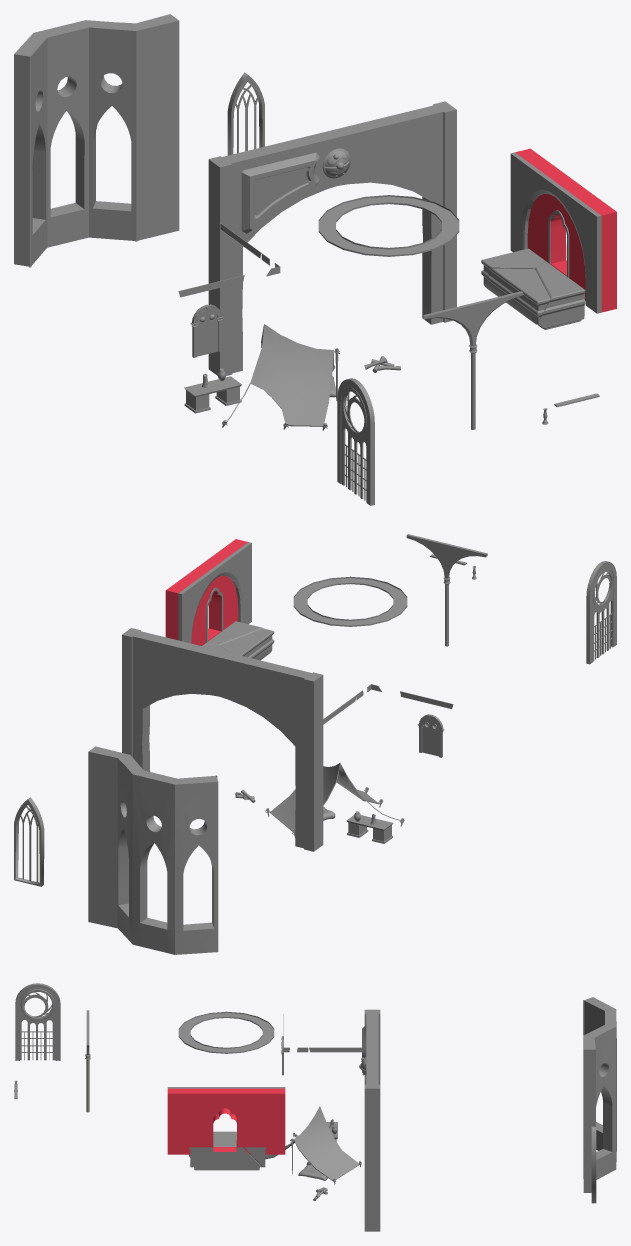
Rendered from modules_LO.FBX.
3 views of the same model, one above another, from view 1: azimuth 30°, elevation 25°; view 2: azimuth 150°, elevation 25°; view 3: azimuth 270°, elevation 25° (orthographic). The views are drawn at different scales.
Parts seen in each view (by area): view 1: wall_3window_LO, Archway_A_LO, doorway_Large_LO, tent_LO, terrace_LO, window_Large_LO, Archway_B_LO, roof_hole_LO, wall_TOP_A_LO, window_medium_LO, Door_medium_LO, small table_LO (+1 smaller); view 2: wall_3window_LO, Archway_A_LO, doorway_Large_LO, window_Large_LO, roof_hole_LO, terrace_LO, tent_LO, window_medium_LO, wall_TOP_A_LO, Door_medium_LO, small table_LO; view 3: doorway_Large_LO, wall_3window_LO, Archway_A_LO, window_Large_LO, tent_LO, terrace_LO, roof_hole_LO, window_medium_LO, wall_border_B_LO, wall_TOP_A_LO.
Boxes of the visible parts, x1=… form: wall_3window_LO: x1=14, y1=14, x2=179, y2=267; Archway_A_LO: x1=208, y1=101, x2=456, y2=375; doorway_Large_LO: x1=510, y1=148, x2=616, y2=313; tent_LO: x1=222, y1=324, x2=339, y2=430; terrace_LO: x1=481, y1=248, x2=585, y2=329; window_Large_LO: x1=337, y1=378, x2=374, y2=505; Archway_B_LO: x1=241, y1=152, x2=319, y2=233; roof_hole_LO: x1=318, y1=195, x2=459, y2=256; wall_TOP_A_LO: x1=423, y1=291, x2=523, y2=429; window_medium_LO: x1=227, y1=72, x2=264, y2=155; Door_medium_LO: x1=190, y1=304, x2=223, y2=357; small table_LO: x1=184, y1=376, x2=241, y2=413; wall_3window_LO: x1=88, y1=746, x2=218, y2=954; Archway_A_LO: x1=122, y1=628, x2=323, y2=851; doorway_Large_LO: x1=165, y1=539, x2=251, y2=645; window_Large_LO: x1=586, y1=561, x2=616, y2=664; roof_hole_LO: x1=293, y1=576, x2=407, y2=626; terrace_LO: x1=202, y1=621, x2=274, y2=660; tent_LO: x1=265, y1=763, x2=404, y2=837; window_medium_LO: x1=14, y1=797, x2=44, y2=886; wall_TOP_A_LO: x1=406, y1=534, x2=487, y2=646; Door_medium_LO: x1=417, y1=714, x2=444, y2=757; small table_LO: x1=346, y1=815, x2=393, y2=843; doorway_Large_LO: x1=167, y1=1087, x2=285, y2=1154; wall_3window_LO: x1=583, y1=997, x2=616, y2=1192; Archway_A_LO: x1=364, y1=1009, x2=380, y2=1231; window_Large_LO: x1=15, y1=983, x2=60, y2=1060; tent_LO: x1=265, y1=1106, x2=361, y2=1184; terrace_LO: x1=189, y1=1131, x2=266, y2=1170; roof_hole_LO: x1=178, y1=1011, x2=274, y2=1053; window_medium_LO: x1=591, y1=1126, x2=596, y2=1203; wall_border_B_LO: x1=283, y1=1045, x2=361, y2=1052; wall_TOP_A_LO: x1=85, y1=1010, x2=90, y2=1112.
Size of the model in its own units: 2319 by 1317 by 4961.
